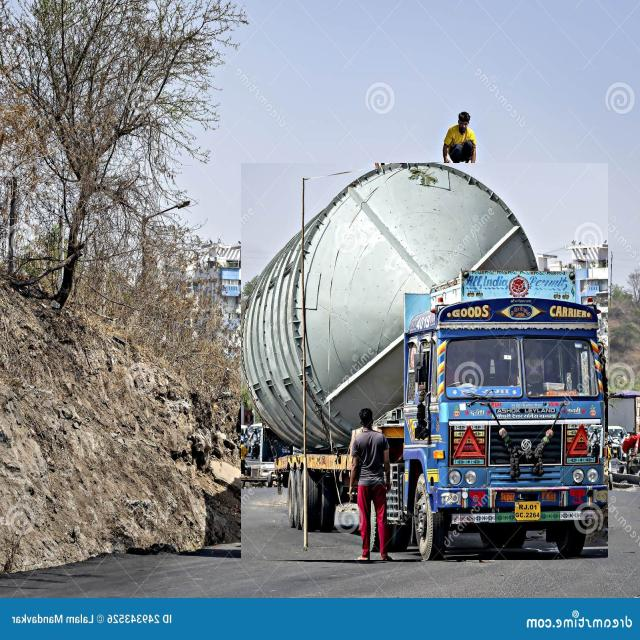motorcycle: (587, 425, 602, 458)
truck: (241, 163, 608, 560)
